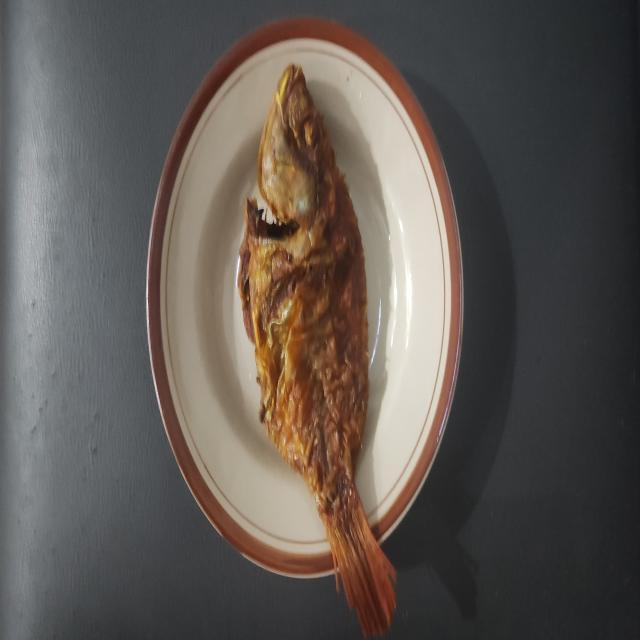ikan_mujair: (238, 64, 394, 636)
